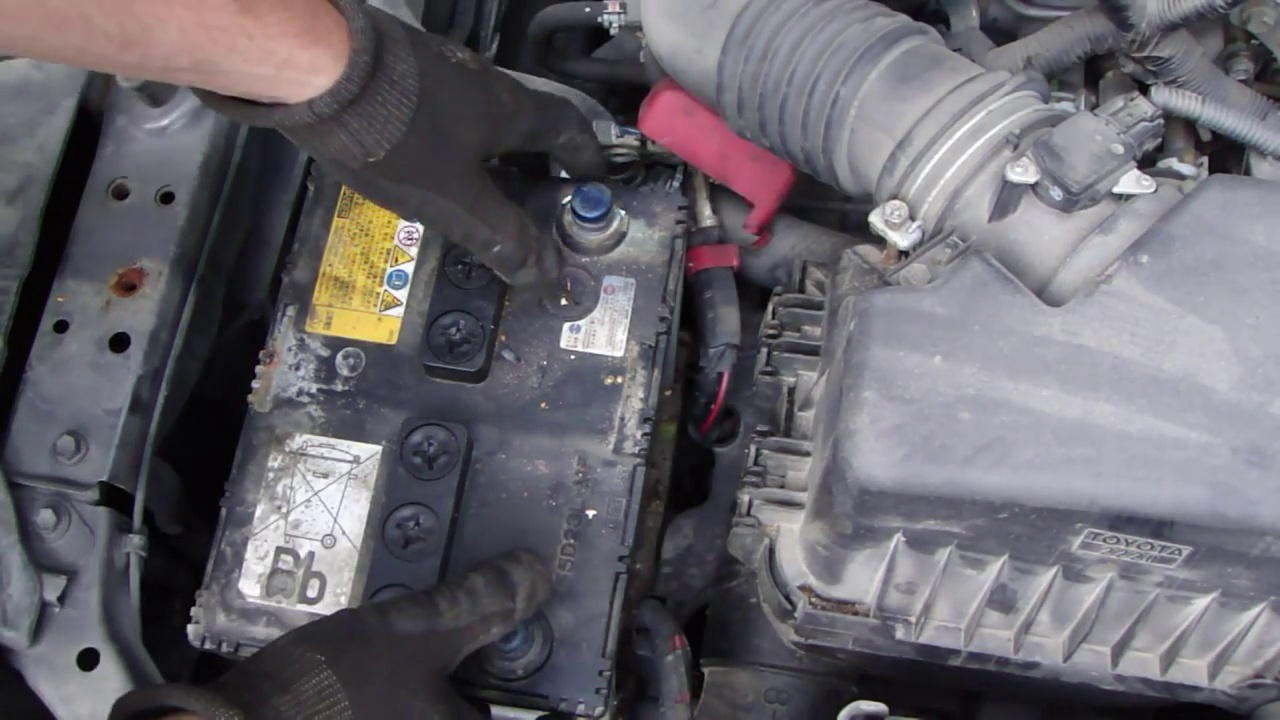battery: (202, 135, 667, 714)
neg_touched: (373, 515, 569, 683)
pos_disconnected: (538, 98, 771, 301)
pos_touched: (412, 52, 733, 304)
